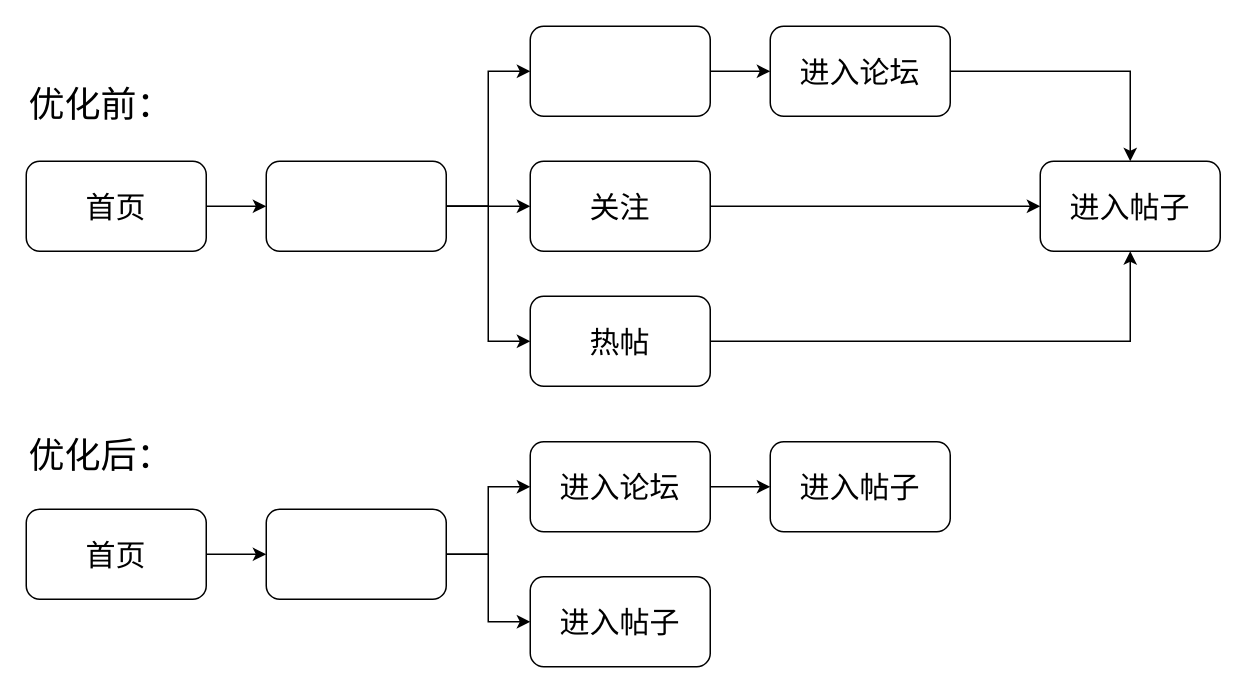
The diagram is 1247 pixels wide and 693 high, and some of its shapes have lost their labels. Here are the shapes that lost their labels. From the top down, the centre of each, then its label:
At point (619, 70): "版块".
At point (355, 205): "论坛".
At point (355, 553): "帖子".
